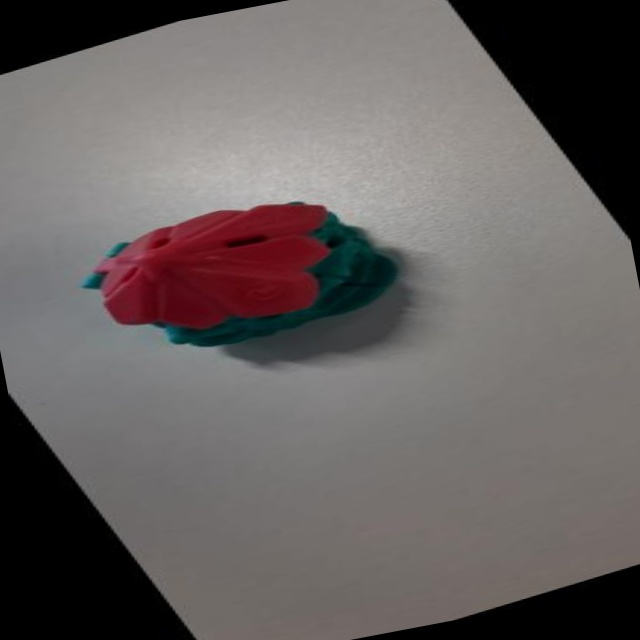House: (48, 151, 441, 393)
